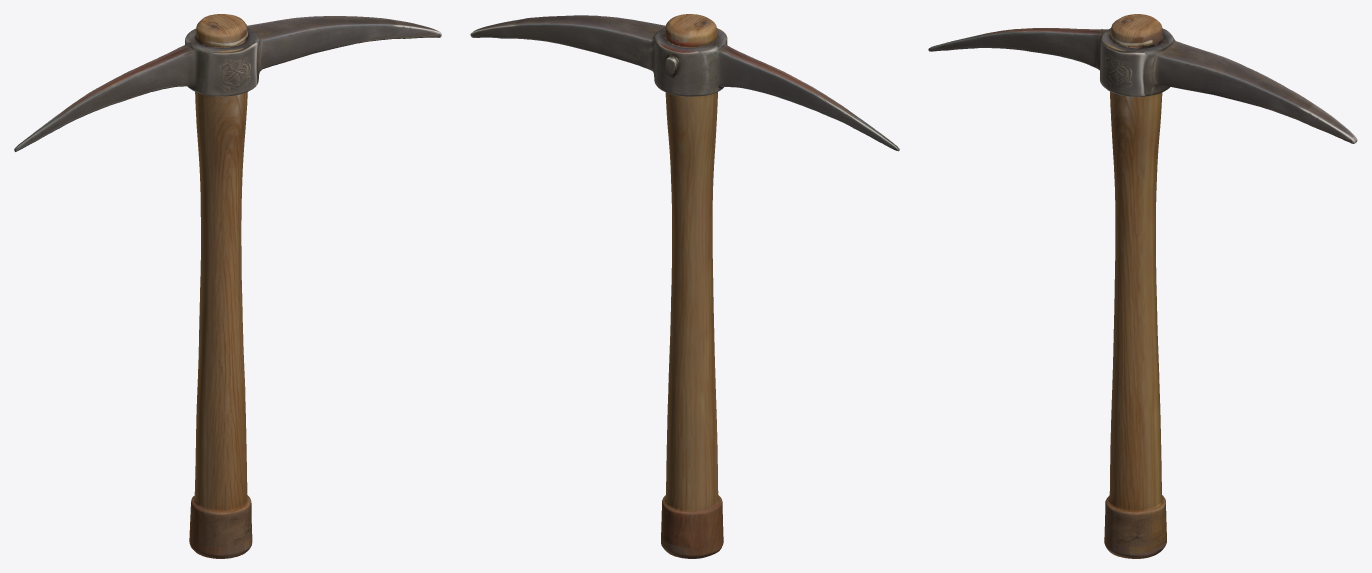
The model's file is Pickaxe.glb.
3 renders of one model, left to right at view 1: azimuth 30°, elevation 25°; view 2: azimuth 150°, elevation 25°; view 3: azimuth 330°, elevation 25°, orthographic.
Size of the model in its own units: 1.71 by 2 by 0.2675.
1 material, 1 textured.
